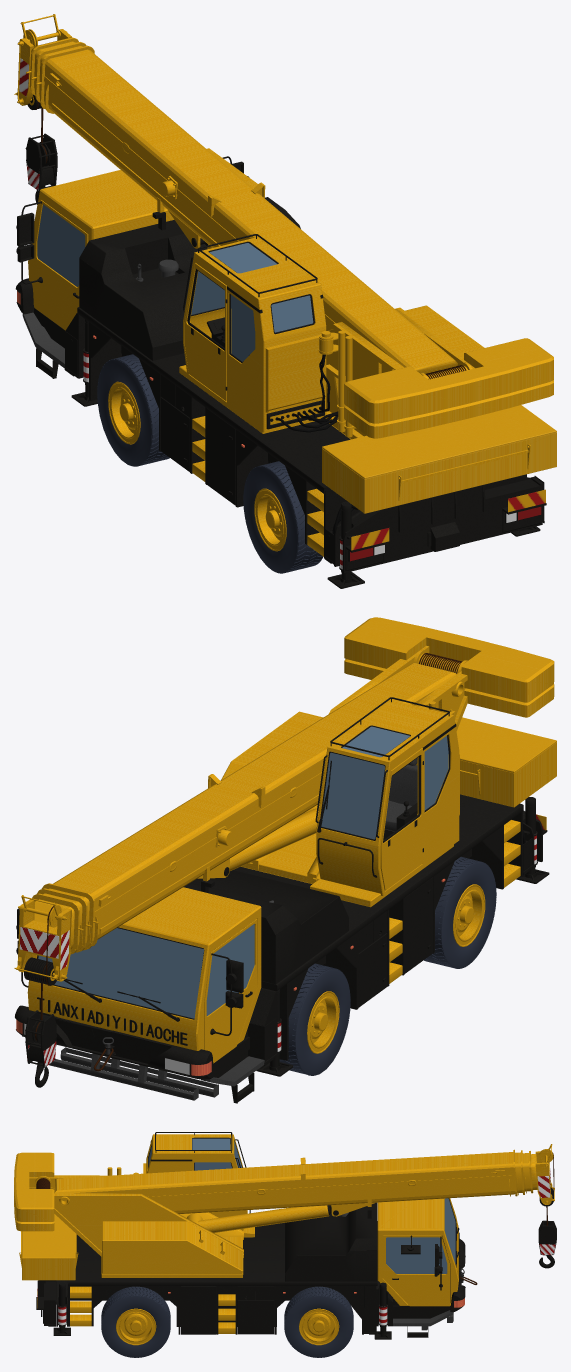
The picture shows the model from 3 angles, top to bottom: view 1: azimuth 30°, elevation 25°; view 2: azimuth 150°, elevation 25°; view 3: azimuth 270°, elevation 25°; orthographic projection. The views are drawn at different scales.
Visible parts, largest first — view 1: zhuti, dabi; view 2: zhuti, dabi; view 3: zhuti, dabi.
Boxes of the visible parts, x1,y1,x2,y2 form: zhuti: (15,148,556,588); dabi: (14,14,457,373); zhuti: (15,617,556,1103); dabi: (14,663,456,1087); zhuti: (14,1132,477,1357); dabi: (55,1144,556,1268).
Size of the model in its own units: 2 by 2.42 by 6.68.
Materials: 17 (17 with a texture image).
